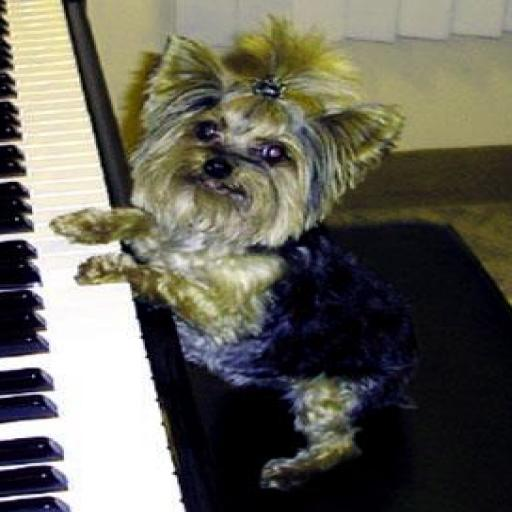dog_face: (126, 42, 405, 232)
